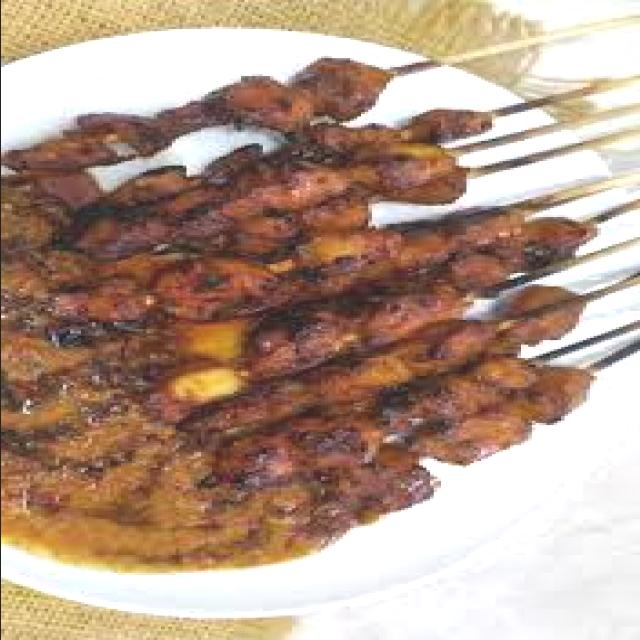sate: (37, 18, 618, 544)
